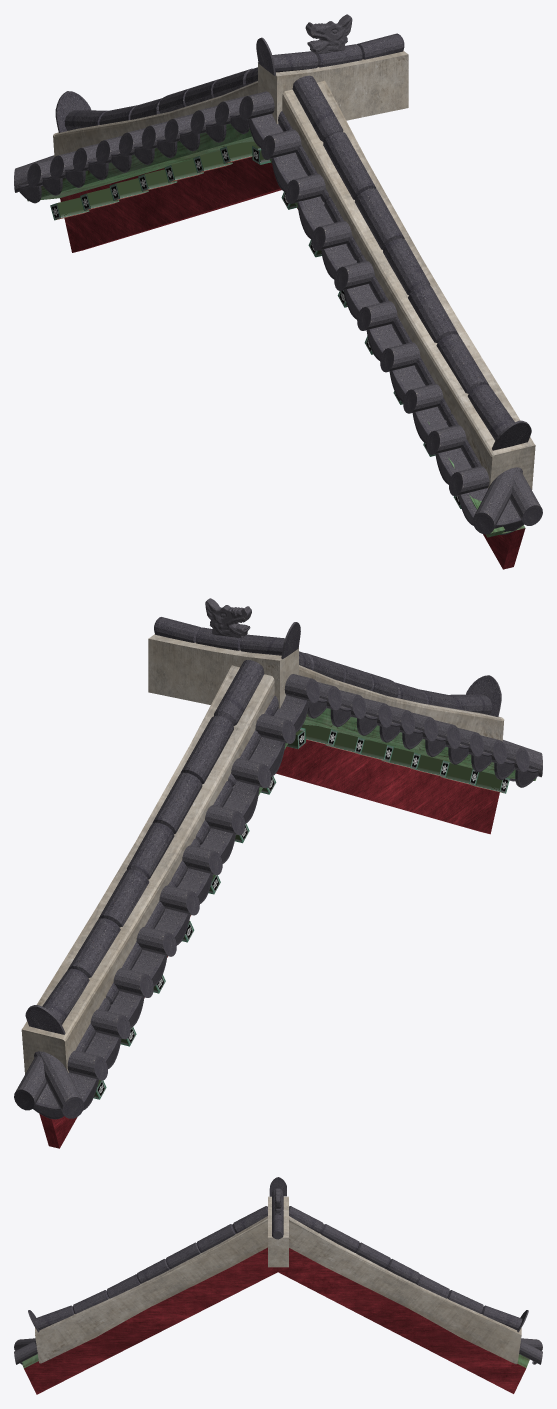
The model's file is SM_R_RoofOuter_18.fbx.
3 views of the same model, one above another, from view 1: azimuth 30°, elevation 25°; view 2: azimuth 150°, elevation 25°; view 3: azimuth 270°, elevation 25° (orthographic). The views are drawn at different scales.
Visible parts, largest first — view 1: SM_R_RoofOuter_18; view 2: SM_R_RoofOuter_18; view 3: SM_R_RoofOuter_18.
Part boxes in pixels (bbox=[...]): SM_R_RoofOuter_18: bbox=[14, 14, 542, 569]; SM_R_RoofOuter_18: bbox=[14, 598, 542, 1148]; SM_R_RoofOuter_18: bbox=[14, 1177, 542, 1394].
Bounding box in the file's own units: 158 × 824 × 362.
4 materials, 4 textured.
